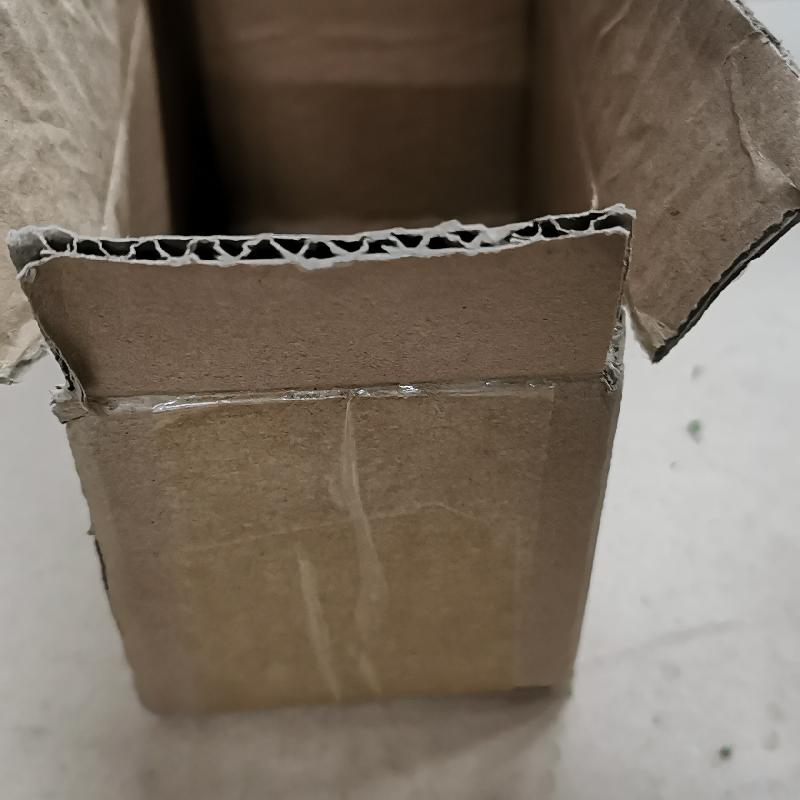boxes: (0, 2, 766, 788)
